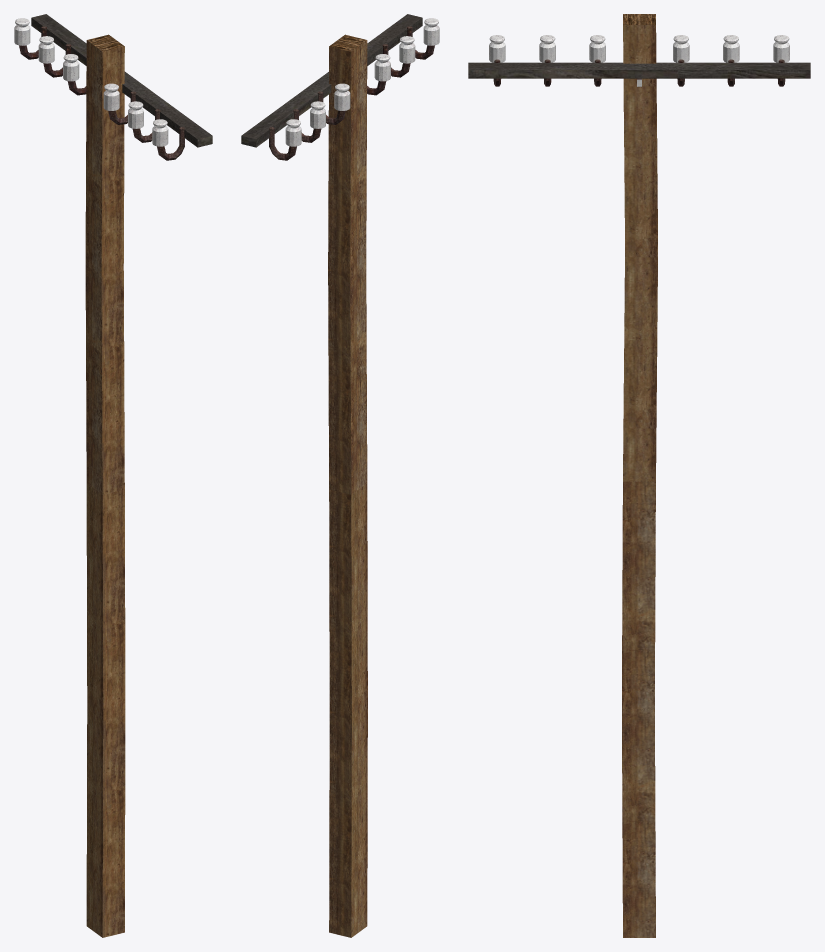
The model's file is telegraph_pole.obj.
3 views of the same model, side by side, from view 1: azimuth 30°, elevation 25°; view 2: azimuth 150°, elevation 25°; view 3: azimuth 270°, elevation 25° (orthographic). The views are drawn at different scales.
Parts seen in each view (by area): view 1: telegraph_pole; view 2: telegraph_pole; view 3: telegraph_pole.
Part boxes in pixels (left/top/right/bottom): telegraph_pole: left=14, top=14, right=212, bottom=937; telegraph_pole: left=241, top=14, right=439, bottom=937; telegraph_pole: left=468, top=14, right=810, bottom=937.
Size of the model in its own units: 0.221 by 3.97 by 1.35.
